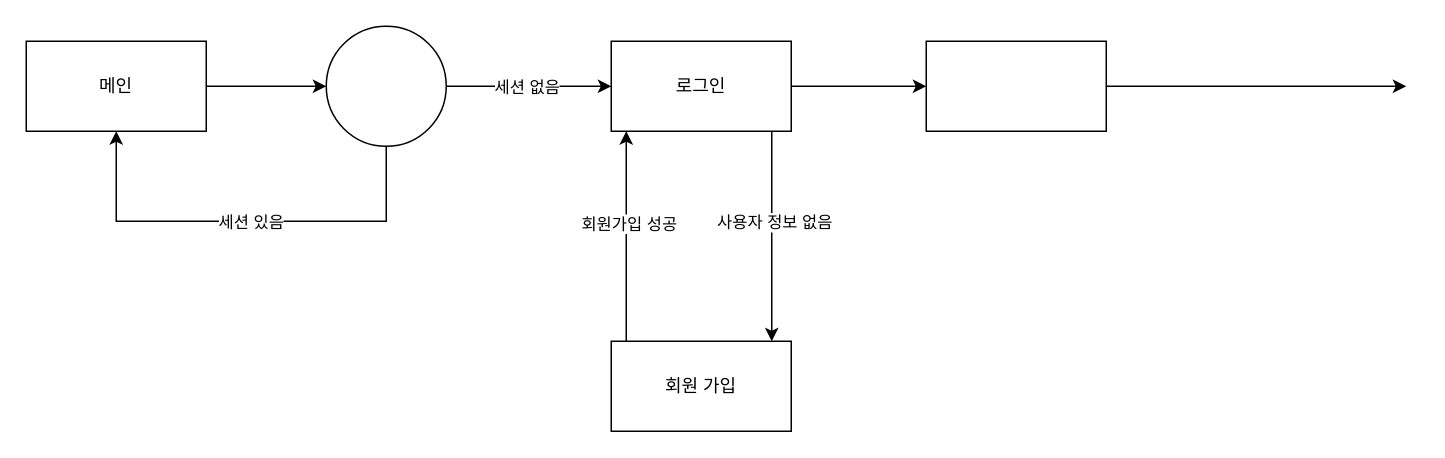
The diagram is 1445 pixels wide and 458 high, and some of its shapes have lost their labels. Here are the shapes that lost their labels. From the top down, the box of each, then its label:
(325, 25, 446, 146): 인증 확인
(925, 40, 1106, 131): 메인 화면
